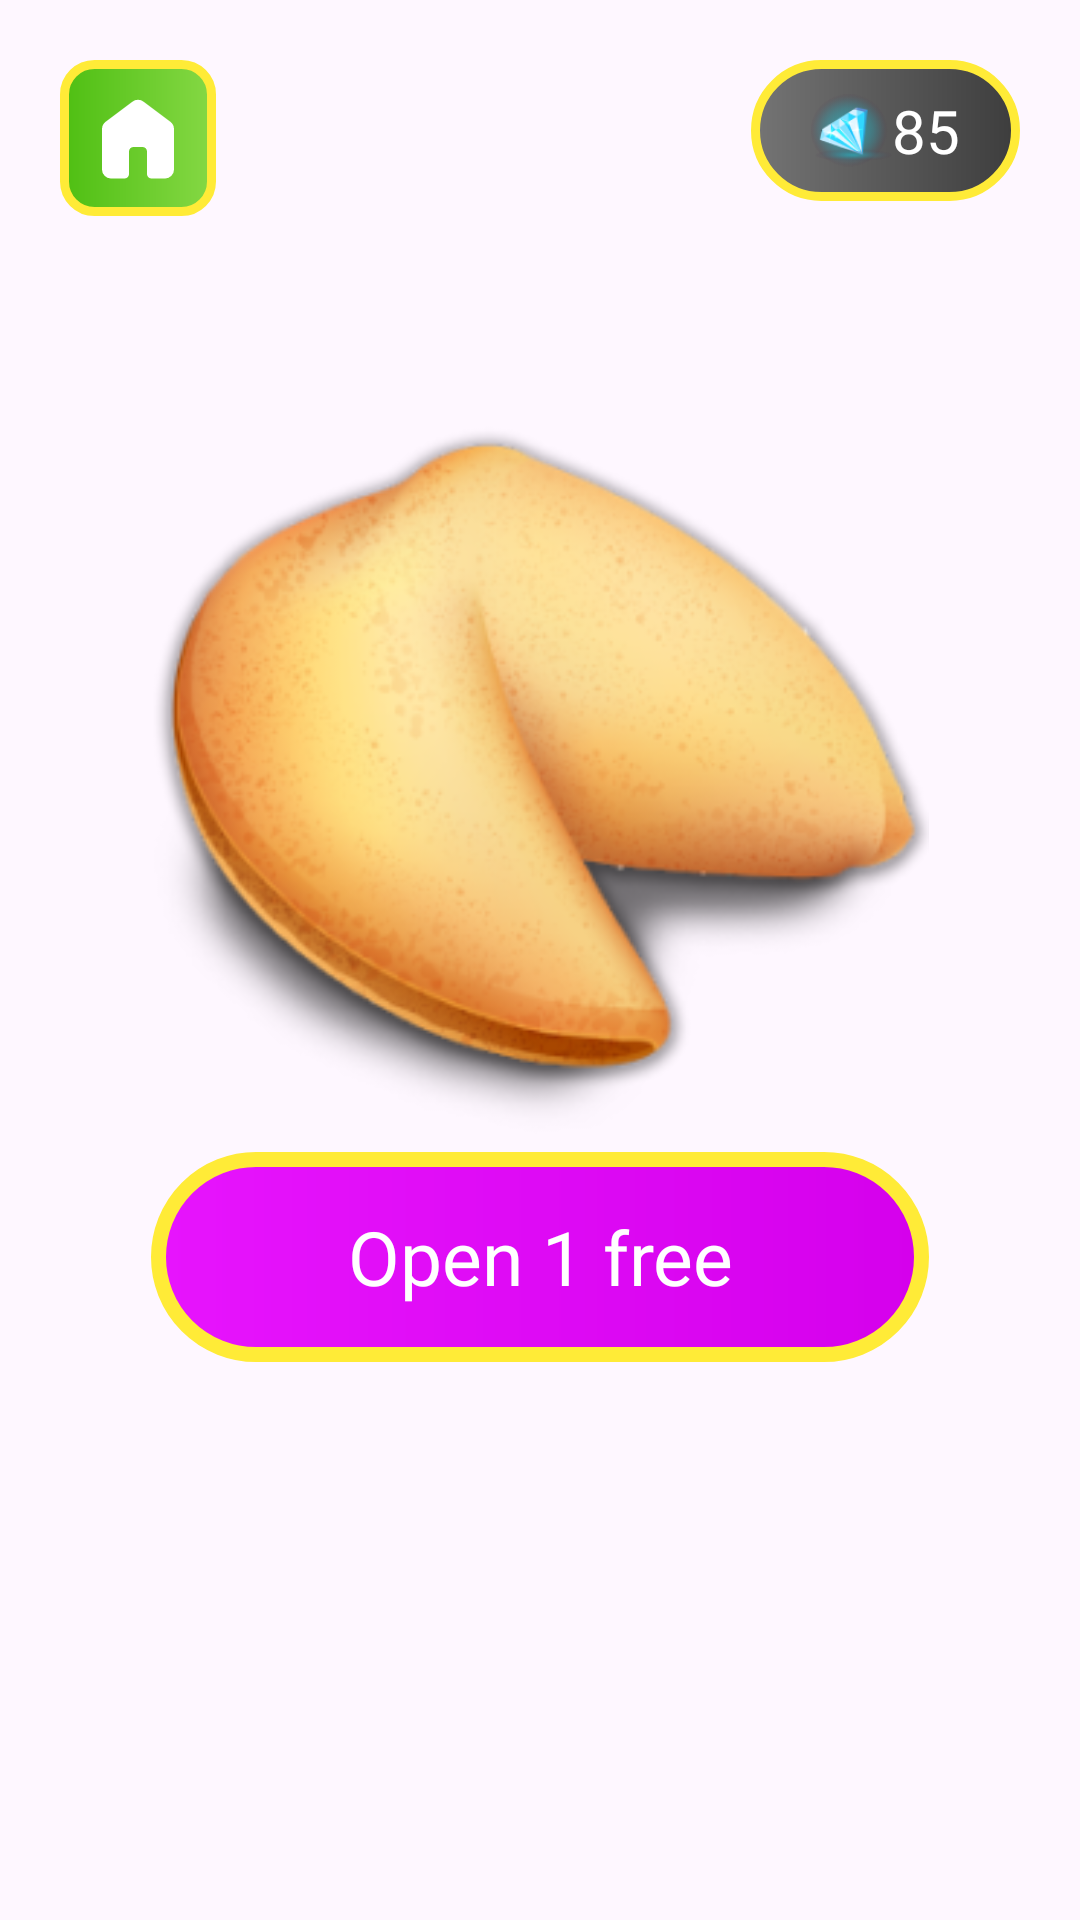

Icons on this 1080x1920 Android screen, each with its box as (x1, y1, x2, y2):
home without: (60, 60, 216, 216)
